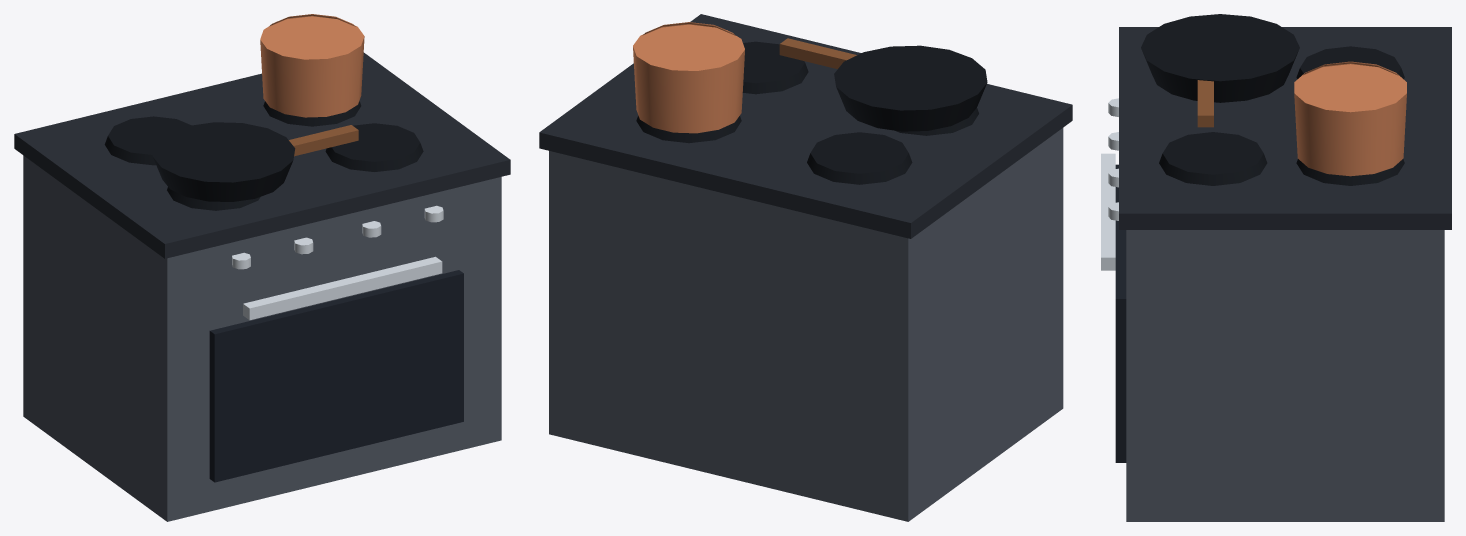
The model's file is station_stove.glb.
3 renders of one model, left to right at view 1: azimuth 30°, elevation 25°; view 2: azimuth 150°, elevation 25°; view 3: azimuth 270°, elevation 25°, orthographic. The views are drawn at different scales.
Parts seen in each view (by area): view 1: Stove; view 2: Stove; view 3: Stove.
Part boxes in pixels (bbox=[...]): Stove: bbox=[14, 14, 510, 521]; Stove: bbox=[539, 14, 1072, 521]; Stove: bbox=[1101, 14, 1451, 521].
Bounding box in the file's own units: 1.22 × 1.21 × 0.97.
